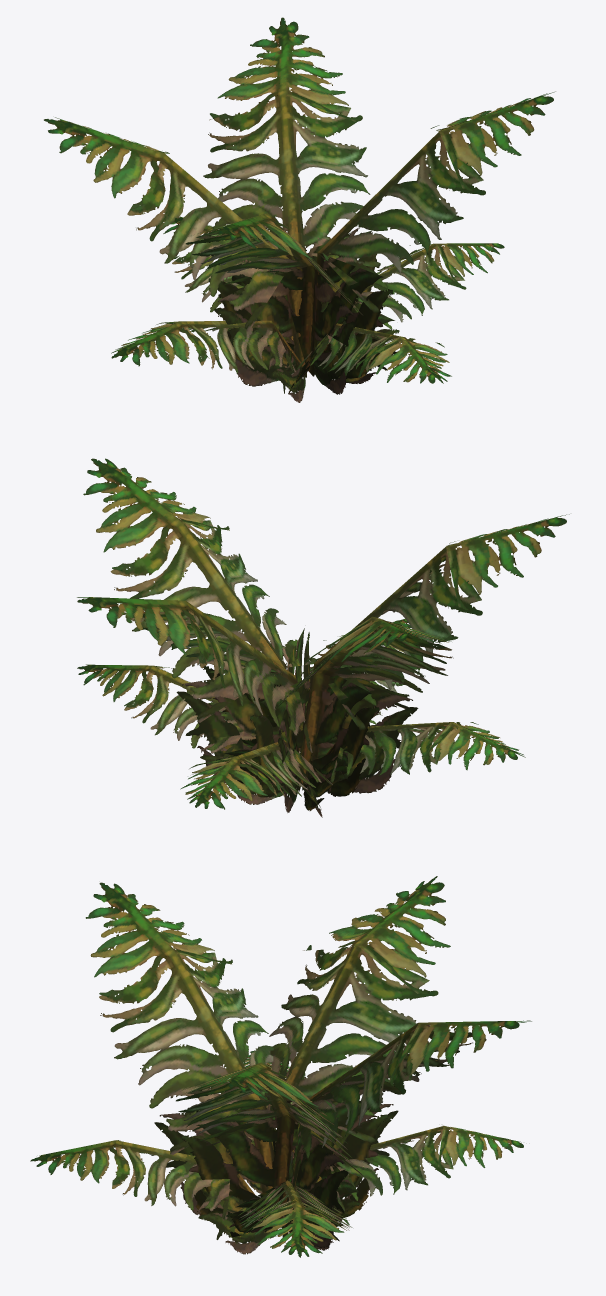
Rendered from Farn.obj.
3 views of the same model, one above another, from view 1: azimuth 30°, elevation 25°; view 2: azimuth 150°, elevation 25°; view 3: azimuth 270°, elevation 25° (orthographic). The views are drawn at different scales.
Visible parts, largest first — view 1: Mesh17 leaf6 fern1 Model, Mesh23 leaf8 fern1 Model, Mesh20 leaf7 fern1 Model, Mesh16 leaf6 fern1 Model, Mesh6 leaf2 fern1 Model, Mesh22 leaf8 fern1 Model, Mesh19 leaf7 fern1 Model, Mesh11 leaf4 fern1 Model, Mesh21 leaf7 fern1 Model, Mesh8 leaf3 fern1 Model, Mesh5 leaf2 fern1 Model, Mesh24 leaf8 fern1 Model (+8 smaller); view 2: Mesh23 leaf8 fern1 Model, Mesh21 leaf7 fern1 Model, Mesh5 leaf2 fern1 Model, Mesh17 leaf6 fern1 Model, Mesh22 leaf8 fern1 Model, Mesh20 leaf7 fern1 Model, Mesh4 leaf2 fern1 Model, Mesh6 leaf2 fern1 Model, Mesh24 leaf8 fern1 Model, Mesh11 leaf4 fern1 Model, Mesh16 leaf6 fern1 Model, Mesh8 leaf3 fern1 Model (+9 smaller); view 3: Mesh5 leaf2 fern1 Model, Mesh20 leaf7 fern1 Model, Mesh24 leaf8 fern1 Model, Mesh17 leaf6 fern1 Model, Mesh4 leaf2 fern1 Model, Mesh19 leaf7 fern1 Model, Mesh23 leaf8 fern1 Model, Mesh2 leaf1 fern1 Model, Mesh14 leaf5 fern1 Model, Mesh16 leaf6 fern1 Model, Mesh7 leaf3 fern1 Model, Mesh21 leaf7 fern1 Model (+9 smaller).
Part boxes in pixels (x1,y1,x2,y2): Mesh17 leaf6 fern1 Model: [203, 95, 380, 267]; Mesh23 leaf8 fern1 Model: [317, 132, 485, 313]; Mesh20 leaf7 fern1 Model: [127, 154, 288, 331]; Mesh16 leaf6 fern1 Model: [209, 17, 362, 121]; Mesh6 leaf2 fern1 Model: [208, 265, 356, 394]; Mesh22 leaf8 fern1 Model: [430, 91, 555, 191]; Mesh19 leaf7 fern1 Model: [44, 117, 169, 213]; Mesh11 leaf4 fern1 Model: [149, 320, 295, 373]; Mesh21 leaf7 fern1 Model: [214, 247, 306, 386]; Mesh8 leaf3 fern1 Model: [353, 243, 466, 339]; Mesh5 leaf2 fern1 Model: [185, 223, 362, 314]; Mesh24 leaf8 fern1 Model: [314, 227, 392, 378]; Mesh23 leaf8 fern1 Model: [110, 520, 316, 722]; Mesh21 leaf7 fern1 Model: [250, 672, 418, 797]; Mesh5 leaf2 fern1 Model: [314, 547, 482, 730]; Mesh17 leaf6 fern1 Model: [124, 601, 312, 752]; Mesh22 leaf8 fern1 Model: [83, 458, 229, 573]; Mesh20 leaf7 fern1 Model: [250, 620, 453, 731]; Mesh4 leaf2 fern1 Model: [446, 514, 569, 610]; Mesh6 leaf2 fern1 Model: [302, 643, 379, 796]; Mesh24 leaf8 fern1 Model: [176, 628, 311, 782]; Mesh11 leaf4 fern1 Model: [329, 722, 476, 782]; Mesh16 leaf6 fern1 Model: [77, 597, 216, 662]; Mesh8 leaf3 fern1 Model: [124, 665, 244, 759]; Mesh5 leaf2 fern1 Model: [99, 952, 302, 1154]; Mesh20 leaf7 fern1 Model: [264, 946, 438, 1143]; Mesh24 leaf8 fern1 Model: [182, 1115, 348, 1247]; Mesh17 leaf6 fern1 Model: [288, 1023, 472, 1178]; Mesh4 leaf2 fern1 Model: [85, 882, 232, 999]; Mesh19 leaf7 fern1 Model: [303, 876, 450, 993]; Mesh23 leaf8 fern1 Model: [176, 1065, 363, 1176]; Mesh2 leaf1 fern1 Model: [112, 1140, 230, 1219]; Mesh14 leaf5 fern1 Model: [330, 1126, 453, 1211]; Mesh16 leaf6 fern1 Model: [389, 1020, 531, 1086]; Mesh7 leaf3 fern1 Model: [243, 1202, 349, 1257]; Mesh21 leaf7 fern1 Model: [271, 1100, 387, 1218].
Bounding box in the file's own units: 4.14 × 2.12 × 3.91.
1 material, 1 textured.
